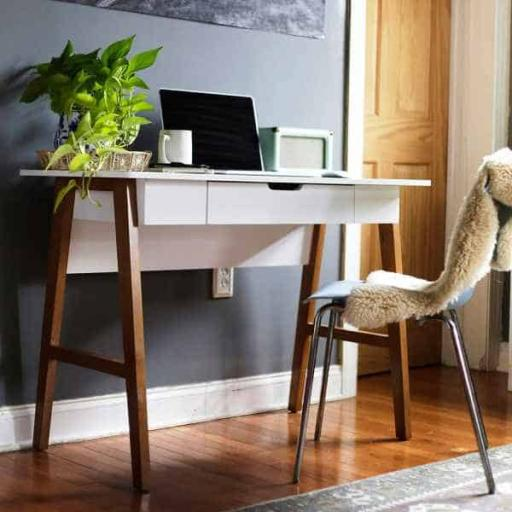Door: (356, 0, 451, 376)
chair: (290, 148, 512, 498)
desk: (18, 168, 432, 492)
